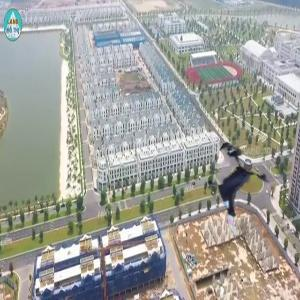drone: (200, 155, 280, 235)
